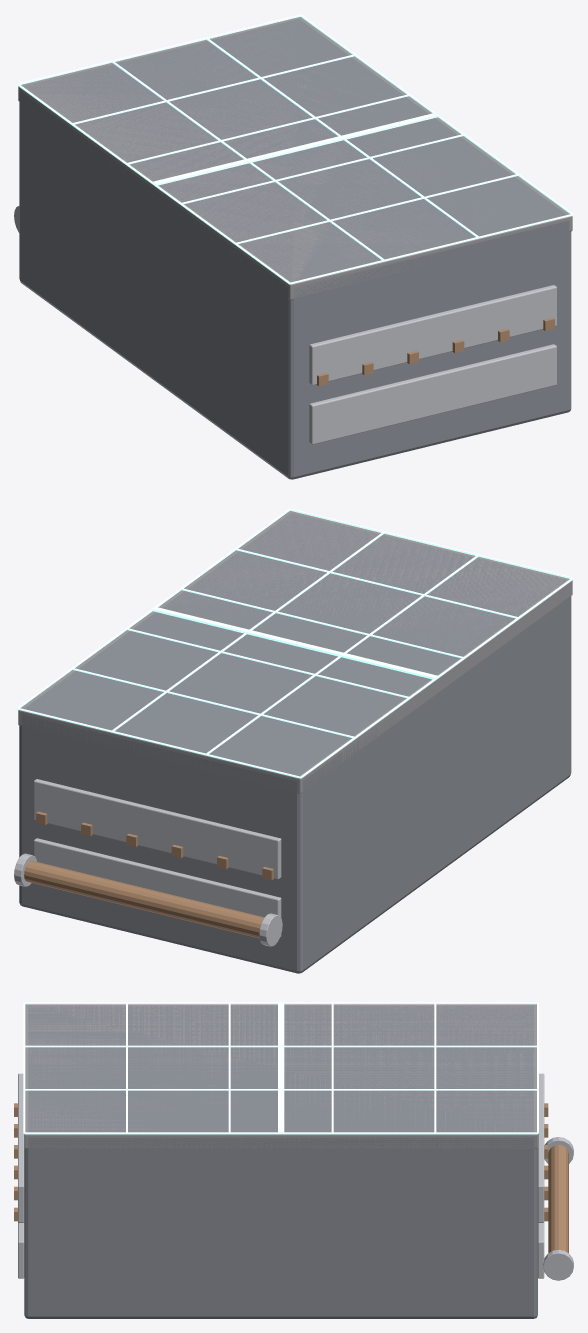
The model's file is ship_mid_5x3.glb.
3 views of the same model, one above another, from view 1: azimuth 30°, elevation 25°; view 2: azimuth 150°, elevation 25°; view 3: azimuth 270°, elevation 25° (orthographic). The views are drawn at different scales.
Parts seen in each view (by area): view 1: ext_hull, int_deck, ext_armor_plates, int_grid, ext_deck_glow, ext_rivets; view 2: ext_hull, int_deck, ext_armor_plates, int_grid, ext_hull_pipe, ext_deck_glow, ext_rivets, ext_hull_pipe_fl0; view 3: ext_hull, int_deck, int_grid, ext_armor_plates, ext_hull_pipe, ext_deck_glow, ext_hull_pipe_fl1, ext_rivets.
Boxes of the visible parts, x1,y1,x2,y2 form: ext_hull: (19,19,571,479); int_deck: (18,17,572,299); ext_armor_plates: (309,285,556,444); int_grid: (16,14,573,284); ext_deck_glow: (152,113,438,185); ext_rivets: (316,317,554,386); ext_hull: (19,513,571,973); int_deck: (18,511,572,793); ext_armor_plates: (33,779,281,936); int_grid: (16,508,573,778); ext_hull_pipe: (24,860,264,938); ext_deck_glow: (152,607,438,679); ext_rivets: (36,811,273,880); ext_hull_pipe_fl0: (259,913,282,946); ext_hull: (24,1005,537,1318); int_deck: (24,1004,537,1148); int_grid: (23,1002,538,1134); ext_armor_plates: (18,1073,544,1278); ext_hull_pipe: (548,1144,568,1253); ext_deck_glow: (278,1002,284,1132); ext_hull_pipe_fl1: (543,1249,573,1280); ext_rivets: (14,1103,548,1221).
Bounding box in the file's own units: 3.02 × 2.02 × 5.45.
